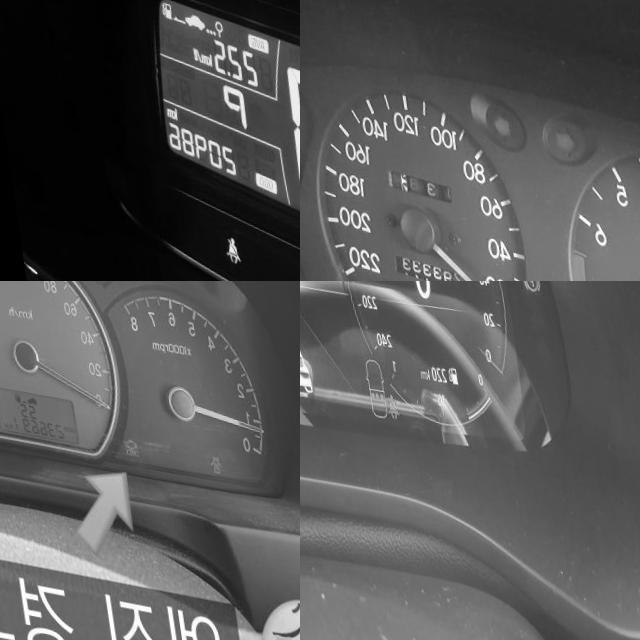Doors: (199, 435, 214, 455)
